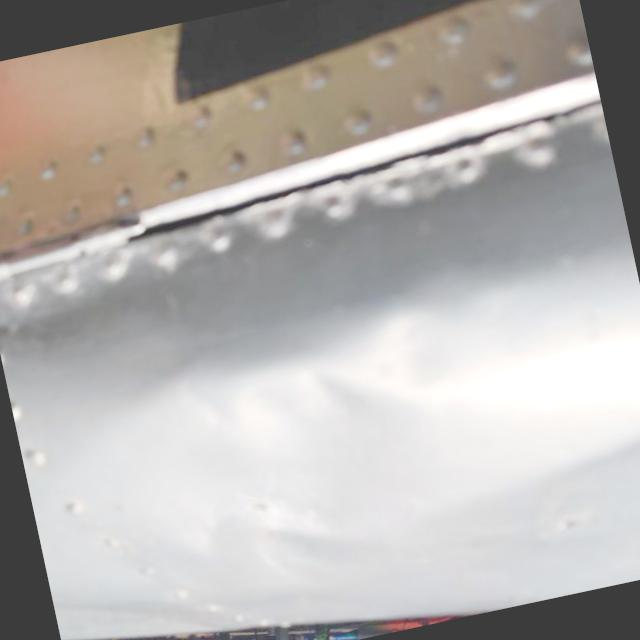dent: (246, 326, 437, 492)
